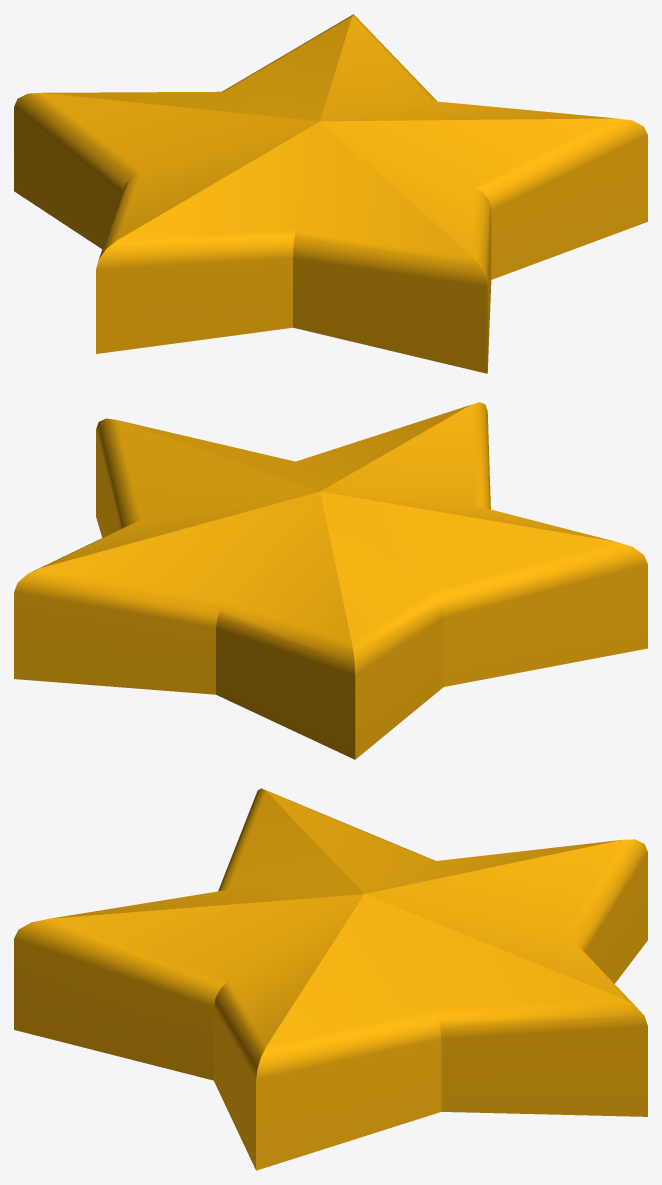
Rendered from star_orange.fbx.
3 renders of one model, top to bottom at view 1: azimuth 30°, elevation 25°; view 2: azimuth 150°, elevation 25°; view 3: azimuth 270°, elevation 25°, orthographic. The views are drawn at different scales.
Visible parts, largest first — view 1: pCylinder1; view 2: pCylinder1; view 3: pCylinder1.
Boxes of the visible parts, x1,y1,x2,y2 form: pCylinder1: [14, 14, 647, 373]; pCylinder1: [14, 402, 647, 759]; pCylinder1: [14, 788, 647, 1170].
Bounding box in the file's own units: 5.71 × 1.28 × 5.43.
Materials: 1 (1 with a texture image).
